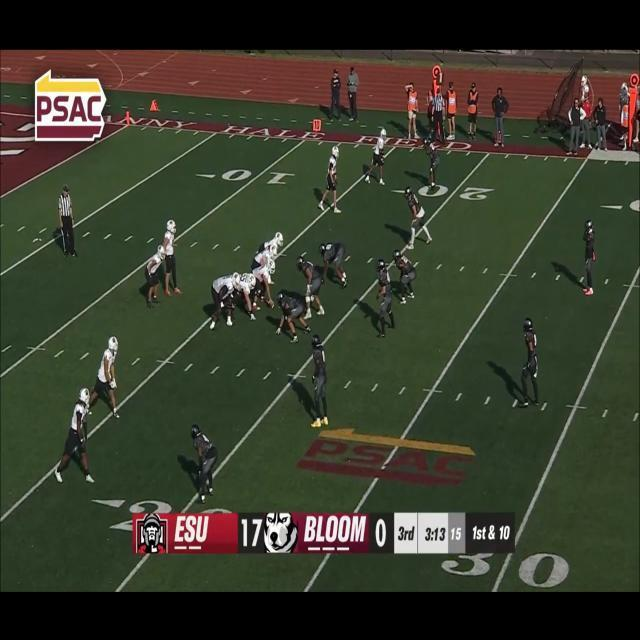football: (265, 298, 277, 310)
